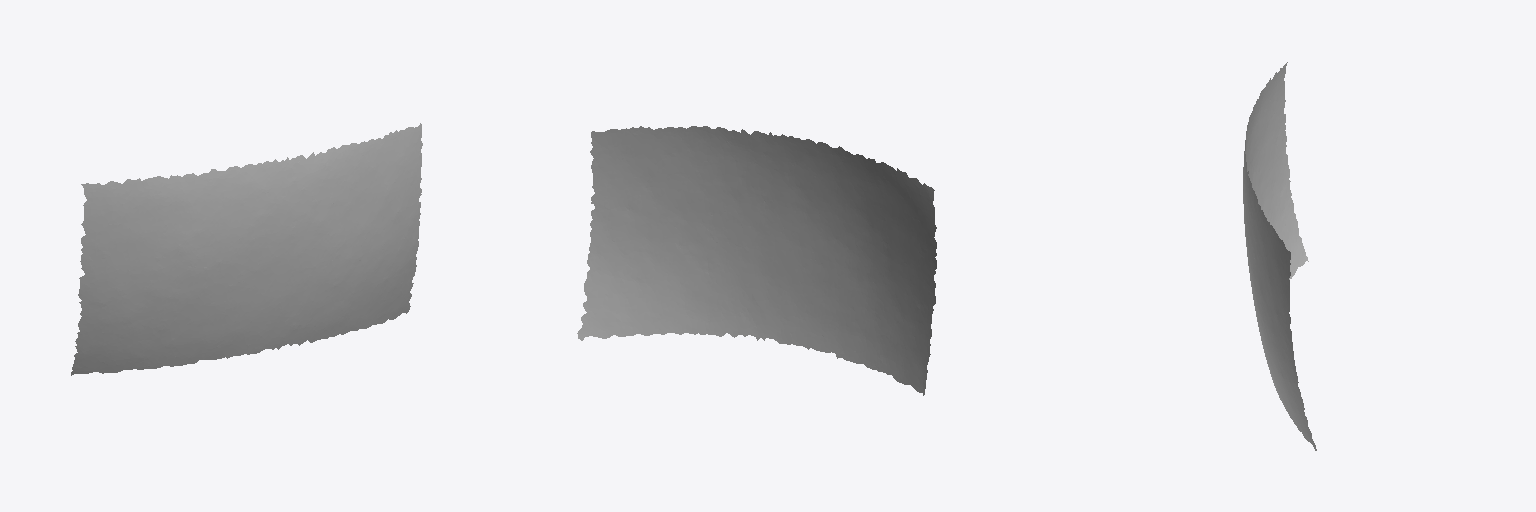
Rendered from SeaVase_bottomPatch.obj.
3 views of the same model, side by side, from view 1: azimuth 30°, elevation 25°; view 2: azimuth 150°, elevation 25°; view 3: azimuth 270°, elevation 25° (orthographic).
Visible parts, largest first — view 1: SeaVase_100timesSmooth.remaining.part; view 2: SeaVase_100timesSmooth.remaining.part; view 3: SeaVase_100timesSmooth.remaining.part.
Boxes of the visible parts, x1=… form: SeaVase_100timesSmooth.remaining.part: x1=71, y1=123, x2=422, y2=375; SeaVase_100timesSmooth.remaining.part: x1=577, y1=126, x2=936, y2=395; SeaVase_100timesSmooth.remaining.part: x1=1243, y1=62, x2=1316, y2=450.
Size of the model in its own units: 0.8078 by 0.5065 by 0.1493.